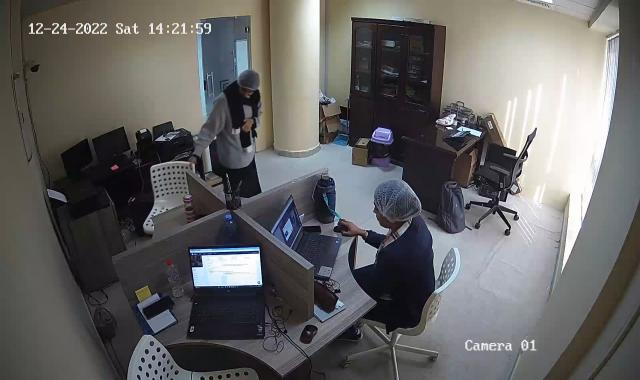hairnet: (371, 179, 421, 229), (236, 68, 260, 98)
